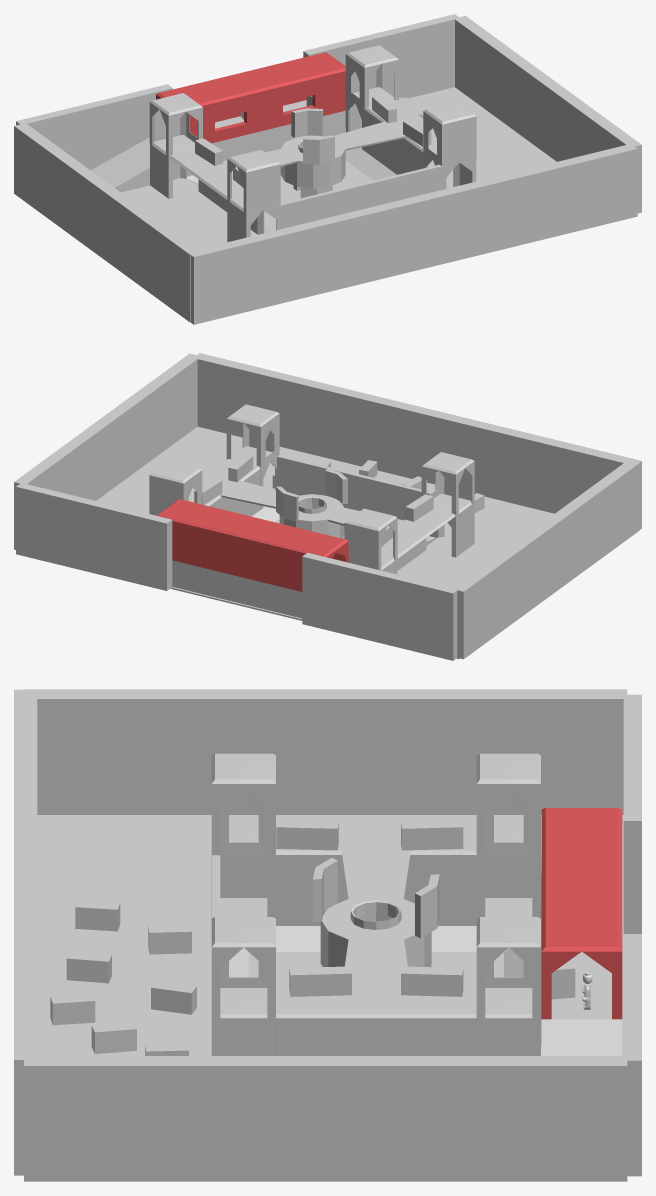
The model's file is Map3.fbx.
The picture shows the model from 3 angles, top to bottom: view 1: azimuth 30°, elevation 25°; view 2: azimuth 150°, elevation 25°; view 3: azimuth 270°, elevation 25°; orthographic projection. The views are drawn at different scales.
Parts seen in each view (by area): view 1: Wall.002, Wall.001, Wall, Estructura.007, Wall.004, Wall.003, Estructura.008, Estructura.015, Suelo.007, Suelo.005, Estructura.012, Estructura.013 (+19 smaller); view 2: Wall.002, Wall.001, Wall, Wall.003, Wall.004, Estructura.007, Estructura.015, Suelo.006, Estructura.008, Suelo.005, Suelo.007, Estructura.010 (+14 smaller); view 3: Wall, Wall.001, Suelo.006, Estructura.007, Suelo.005, Wall.002, Estructura.003, Estructura.017, Estructura.008, Estructura.010, Estructura.013, Estructura.001 (+28 smaller).
Boxes of the visible parts, bbox=[...] form: Wall.002: bbox=[191, 145, 637, 324]; Wall.001: bbox=[14, 124, 201, 322]; Wall: bbox=[455, 15, 641, 213]; Estructura.007: bbox=[156, 52, 345, 143]; Wall.004: bbox=[16, 84, 172, 170]; Wall.003: bbox=[303, 14, 459, 98]; Estructura.008: bbox=[91, 97, 424, 192]; Estructura.015: bbox=[280, 164, 441, 228]; Suelo.007: bbox=[361, 87, 556, 188]; Suelo.005: bbox=[121, 178, 257, 249]; Estructura.012: bbox=[423, 102, 476, 166]; Estructura.013: bbox=[227, 150, 280, 213]; Wall.002: bbox=[197, 353, 641, 529]; Wall.001: bbox=[453, 460, 639, 659]; Wall: bbox=[14, 353, 200, 549]; Wall.003: bbox=[16, 483, 172, 590]; Wall.004: bbox=[302, 552, 457, 660]; Estructura.007: bbox=[156, 499, 348, 591]; Estructura.015: bbox=[277, 455, 437, 537]; Suelo.006: bbox=[197, 426, 554, 536]; Estructura.008: bbox=[172, 560, 302, 618]; Suelo.005: bbox=[397, 533, 526, 658]; Suelo.007: bbox=[96, 427, 266, 513]; Estructura.010: bbox=[344, 508, 397, 570]; Wall: bbox=[24, 1056, 627, 1181]; Wall.001: bbox=[24, 689, 627, 814]; Suelo.006: bbox=[37, 815, 211, 1055]; Estructura.007: bbox=[541, 808, 622, 1019]; Suelo.005: bbox=[38, 815, 541, 922]; Wall.002: bbox=[14, 689, 37, 1175]; Estructura.003: bbox=[276, 1018, 476, 1055]; Estructura.017: bbox=[276, 855, 476, 925]; Estructura.008: bbox=[540, 852, 622, 1055]; Estructura.010: bbox=[476, 753, 540, 854]; Estructura.013: bbox=[211, 753, 275, 854]; Estructura.001: bbox=[276, 988, 476, 1018].
Bounding box in the file's own units: 7691 × 1530 × 5420.
